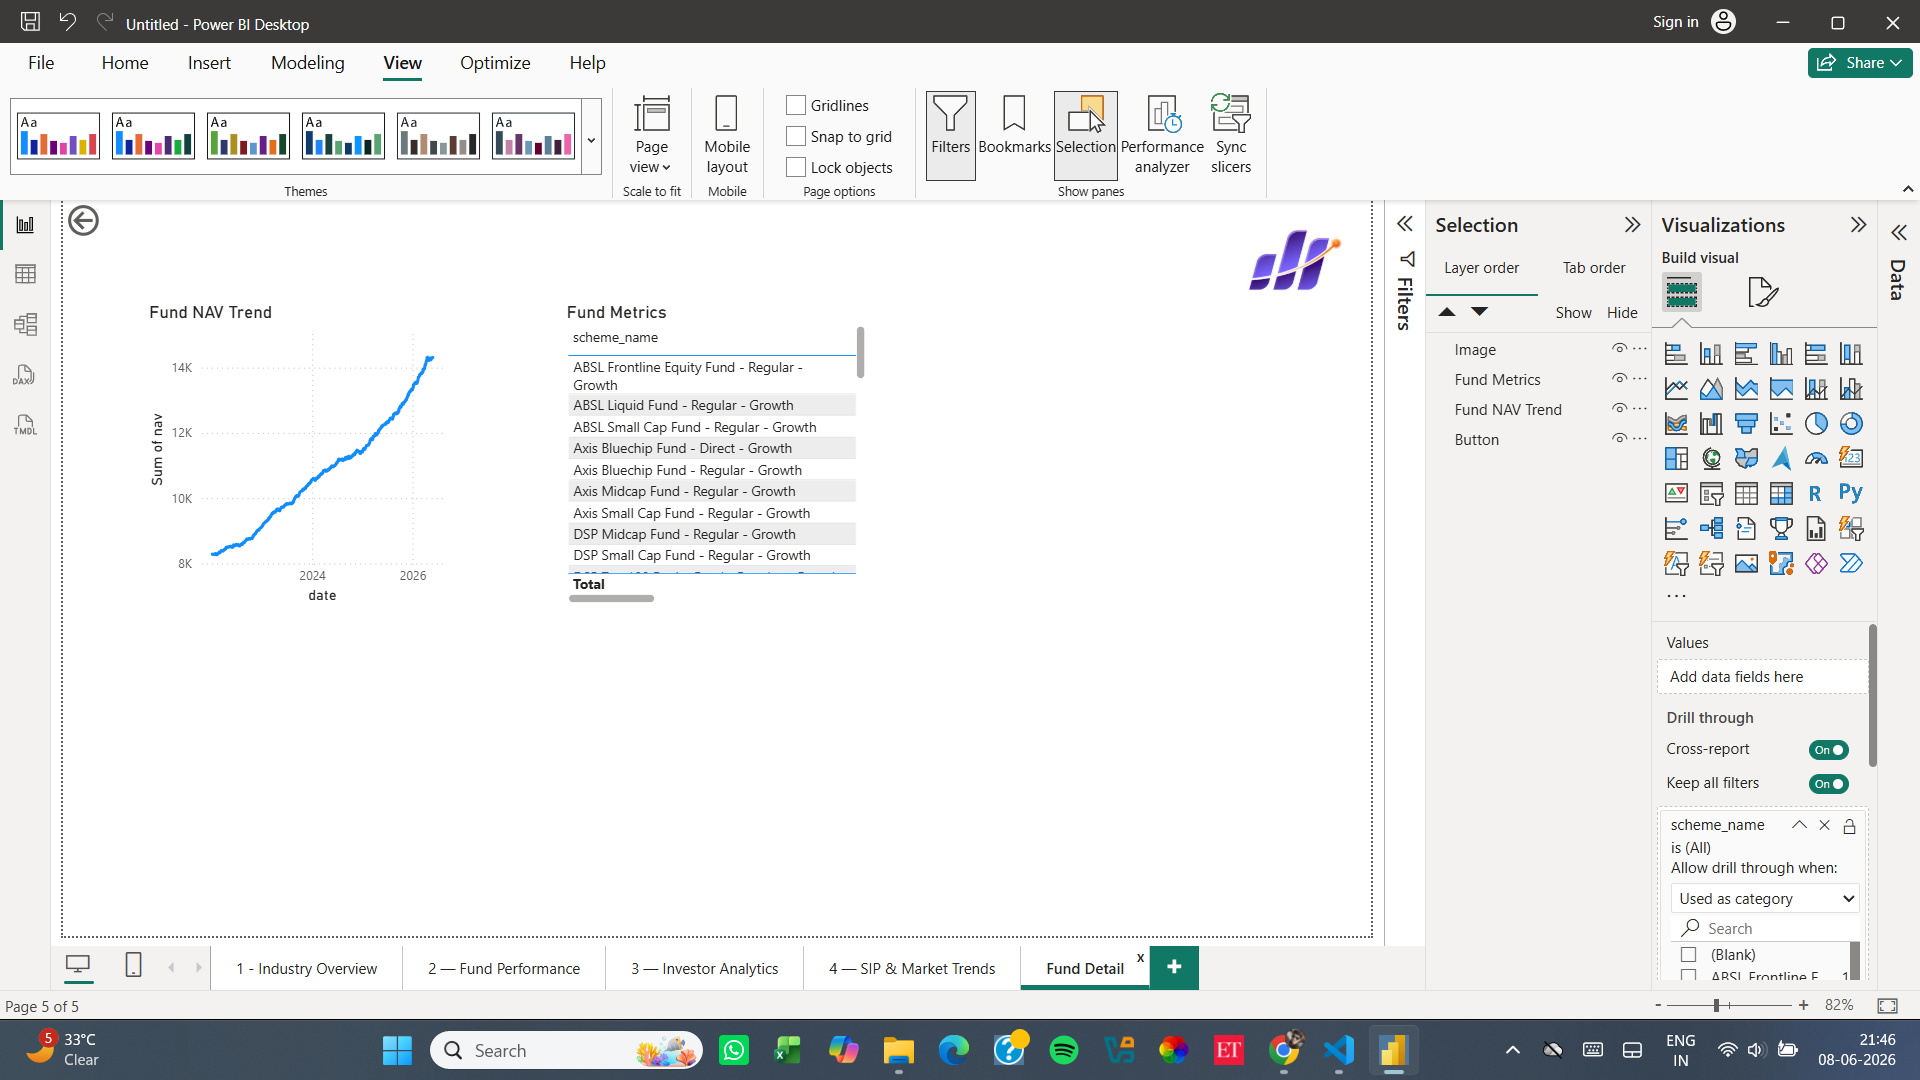

This screenshot's page, from the dashboard's own definition file:
{"tool":"powerbi","page":{"name":"Fund Detail","canvas":[1280,720],"ordinal":4},"visuals":[{"type":"actionButton","box":[0,0,100,40],"z":0},{"type":"lineChart","title":"Fund NAV Trend","fields":{"Category":["02_nav_history_clean.date"],"Y":["Sum(02_nav_history_clean.nav)"]},"box":[79.6,98.8,300.5,300.5],"z":1},{"type":"tableEx","title":"Fund Metrics","fields":{"Values":["01_fund_master_clean.scheme_name","Sum(fund_scorecard.fund_score)","Sum(fund_scorecard.cagr)","Sum(fund_scorecard.sharpe_ratio)","Sum(fund_scorecard.alpha)","Sum(fund_scorecard.beta)","Sum(fund_scorecard.max_drawdown)"]},"box":[488.5,98.8,301.9,300.5],"z":2},{"type":"image","box":[1138.5,0,133.3,118.6],"z":3}]}

Visuals, with their boxes on the page's 1280x720 design canvas (x1, y1, x2, y2). These are canvas units, not pixel positions in the 1920x1080 screenshot, which may show the page scaled, cropped or inside an application window:
actionButton: left=0, top=0, right=100, bottom=40
"Fund NAV Trend" lineChart: left=80, top=99, right=380, bottom=399
"Fund Metrics" tableEx: left=488, top=99, right=790, bottom=399
image: left=1138, top=0, right=1272, bottom=119
